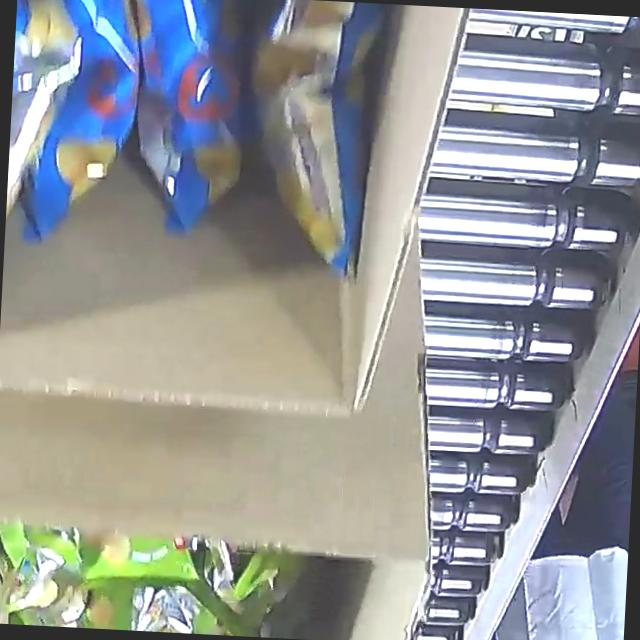paprika: (1, 0, 419, 300)
yogurt: (0, 520, 305, 639)
